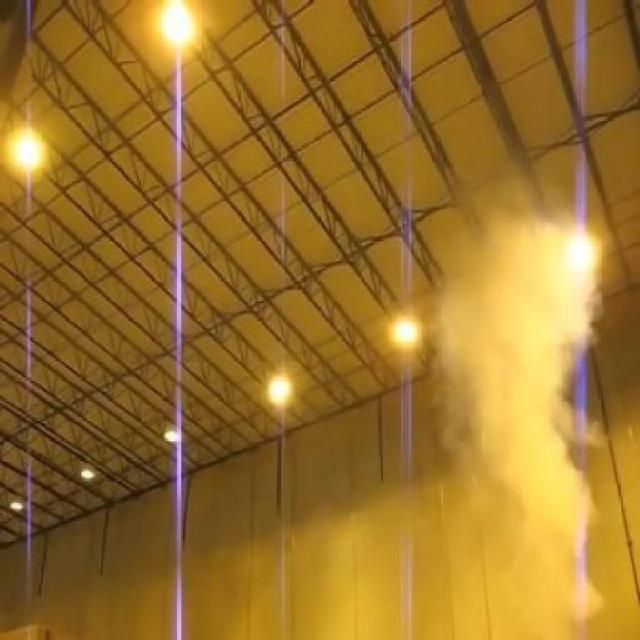fire: (433, 192, 610, 640)
